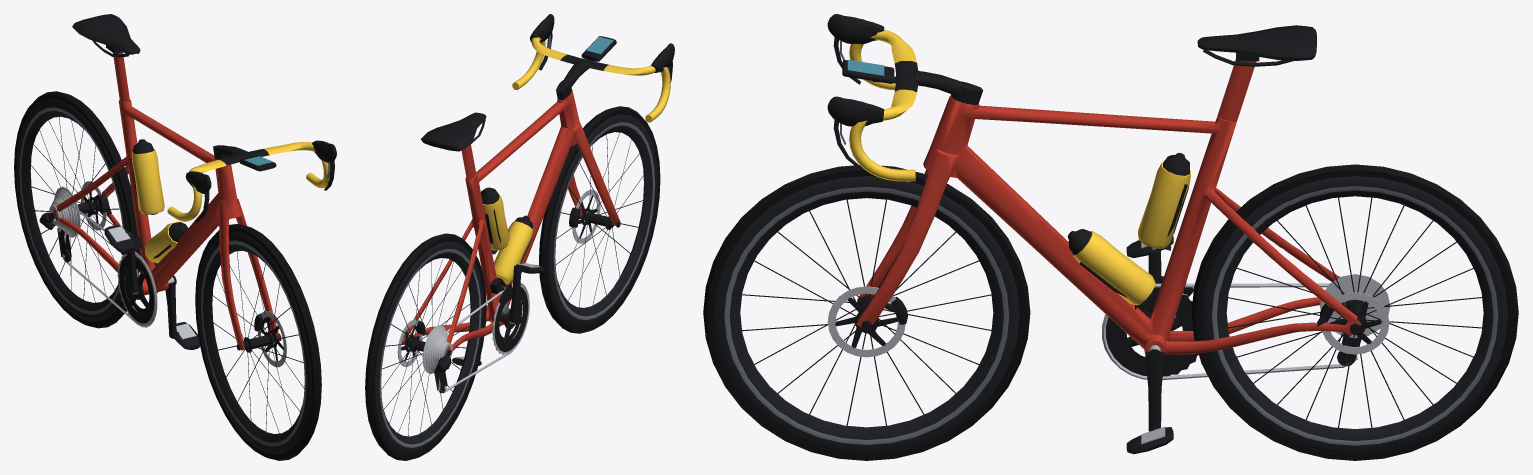
Rendered from bike.glb.
The picture shows the model from 3 angles, left to right: view 1: azimuth 30°, elevation 25°; view 2: azimuth 150°, elevation 25°; view 3: azimuth 270°, elevation 25°; orthographic projection. The views are drawn at different scales.
Parts seen in each view (by area): view 1: frame, wheel_front, wheel_rear, crankset, pedal_R, pedal_L; view 2: frame, wheel_rear, wheel_front, crankset; view 3: frame, wheel_rear, wheel_front, crankset, pedal_L.
Part boxes in pixels (bbox=[...]): frame: bbox=[39, 14, 336, 350]; wheel_front: bbox=[195, 224, 321, 460]; wheel_rear: bbox=[14, 91, 140, 328]; crankset: bbox=[117, 232, 176, 338]; pedal_R: bbox=[104, 224, 135, 252]; pedal_L: bbox=[174, 322, 199, 349]; frame: bbox=[402, 14, 674, 393]; wheel_rear: bbox=[365, 233, 486, 460]; wheel_front: bbox=[539, 106, 660, 333]; crankset: bbox=[478, 264, 529, 365]; frame: bbox=[827, 14, 1361, 379]; wheel_rear: bbox=[1191, 164, 1518, 460]; wheel_front: bbox=[703, 165, 1030, 460]; crankset: bbox=[1106, 250, 1198, 431]; pedal_L: bbox=[1126, 426, 1173, 454].
Bounding box in the file's own units: 0.4654 × 0.9595 × 1.67.
